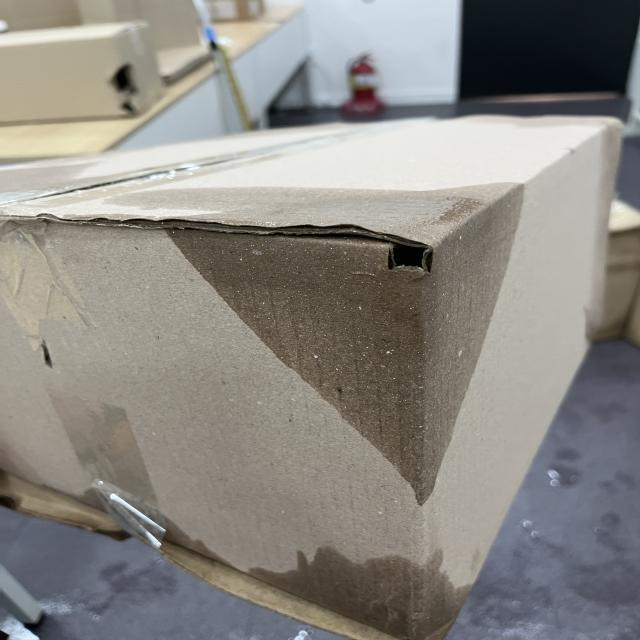hole: (102, 52, 148, 116)
wet: (142, 179, 530, 503), (249, 531, 526, 638)
